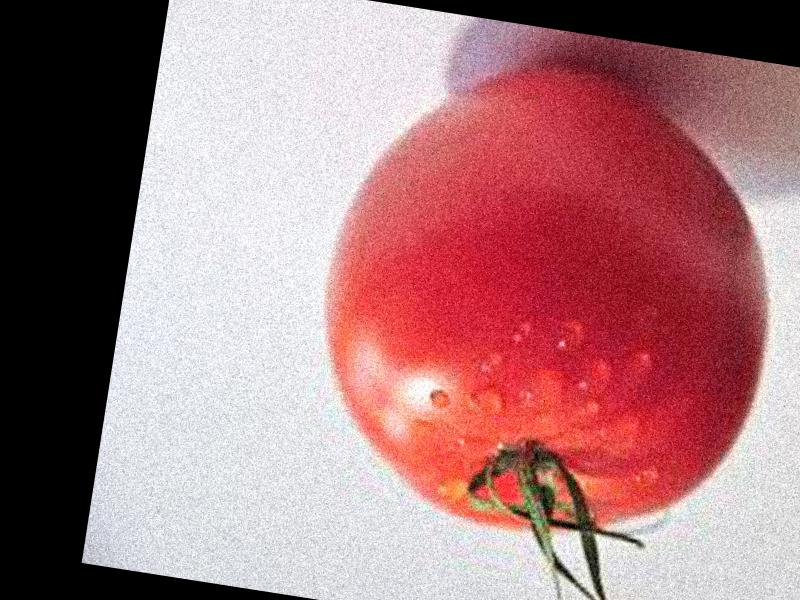Tomato: (294, 35, 800, 557)
